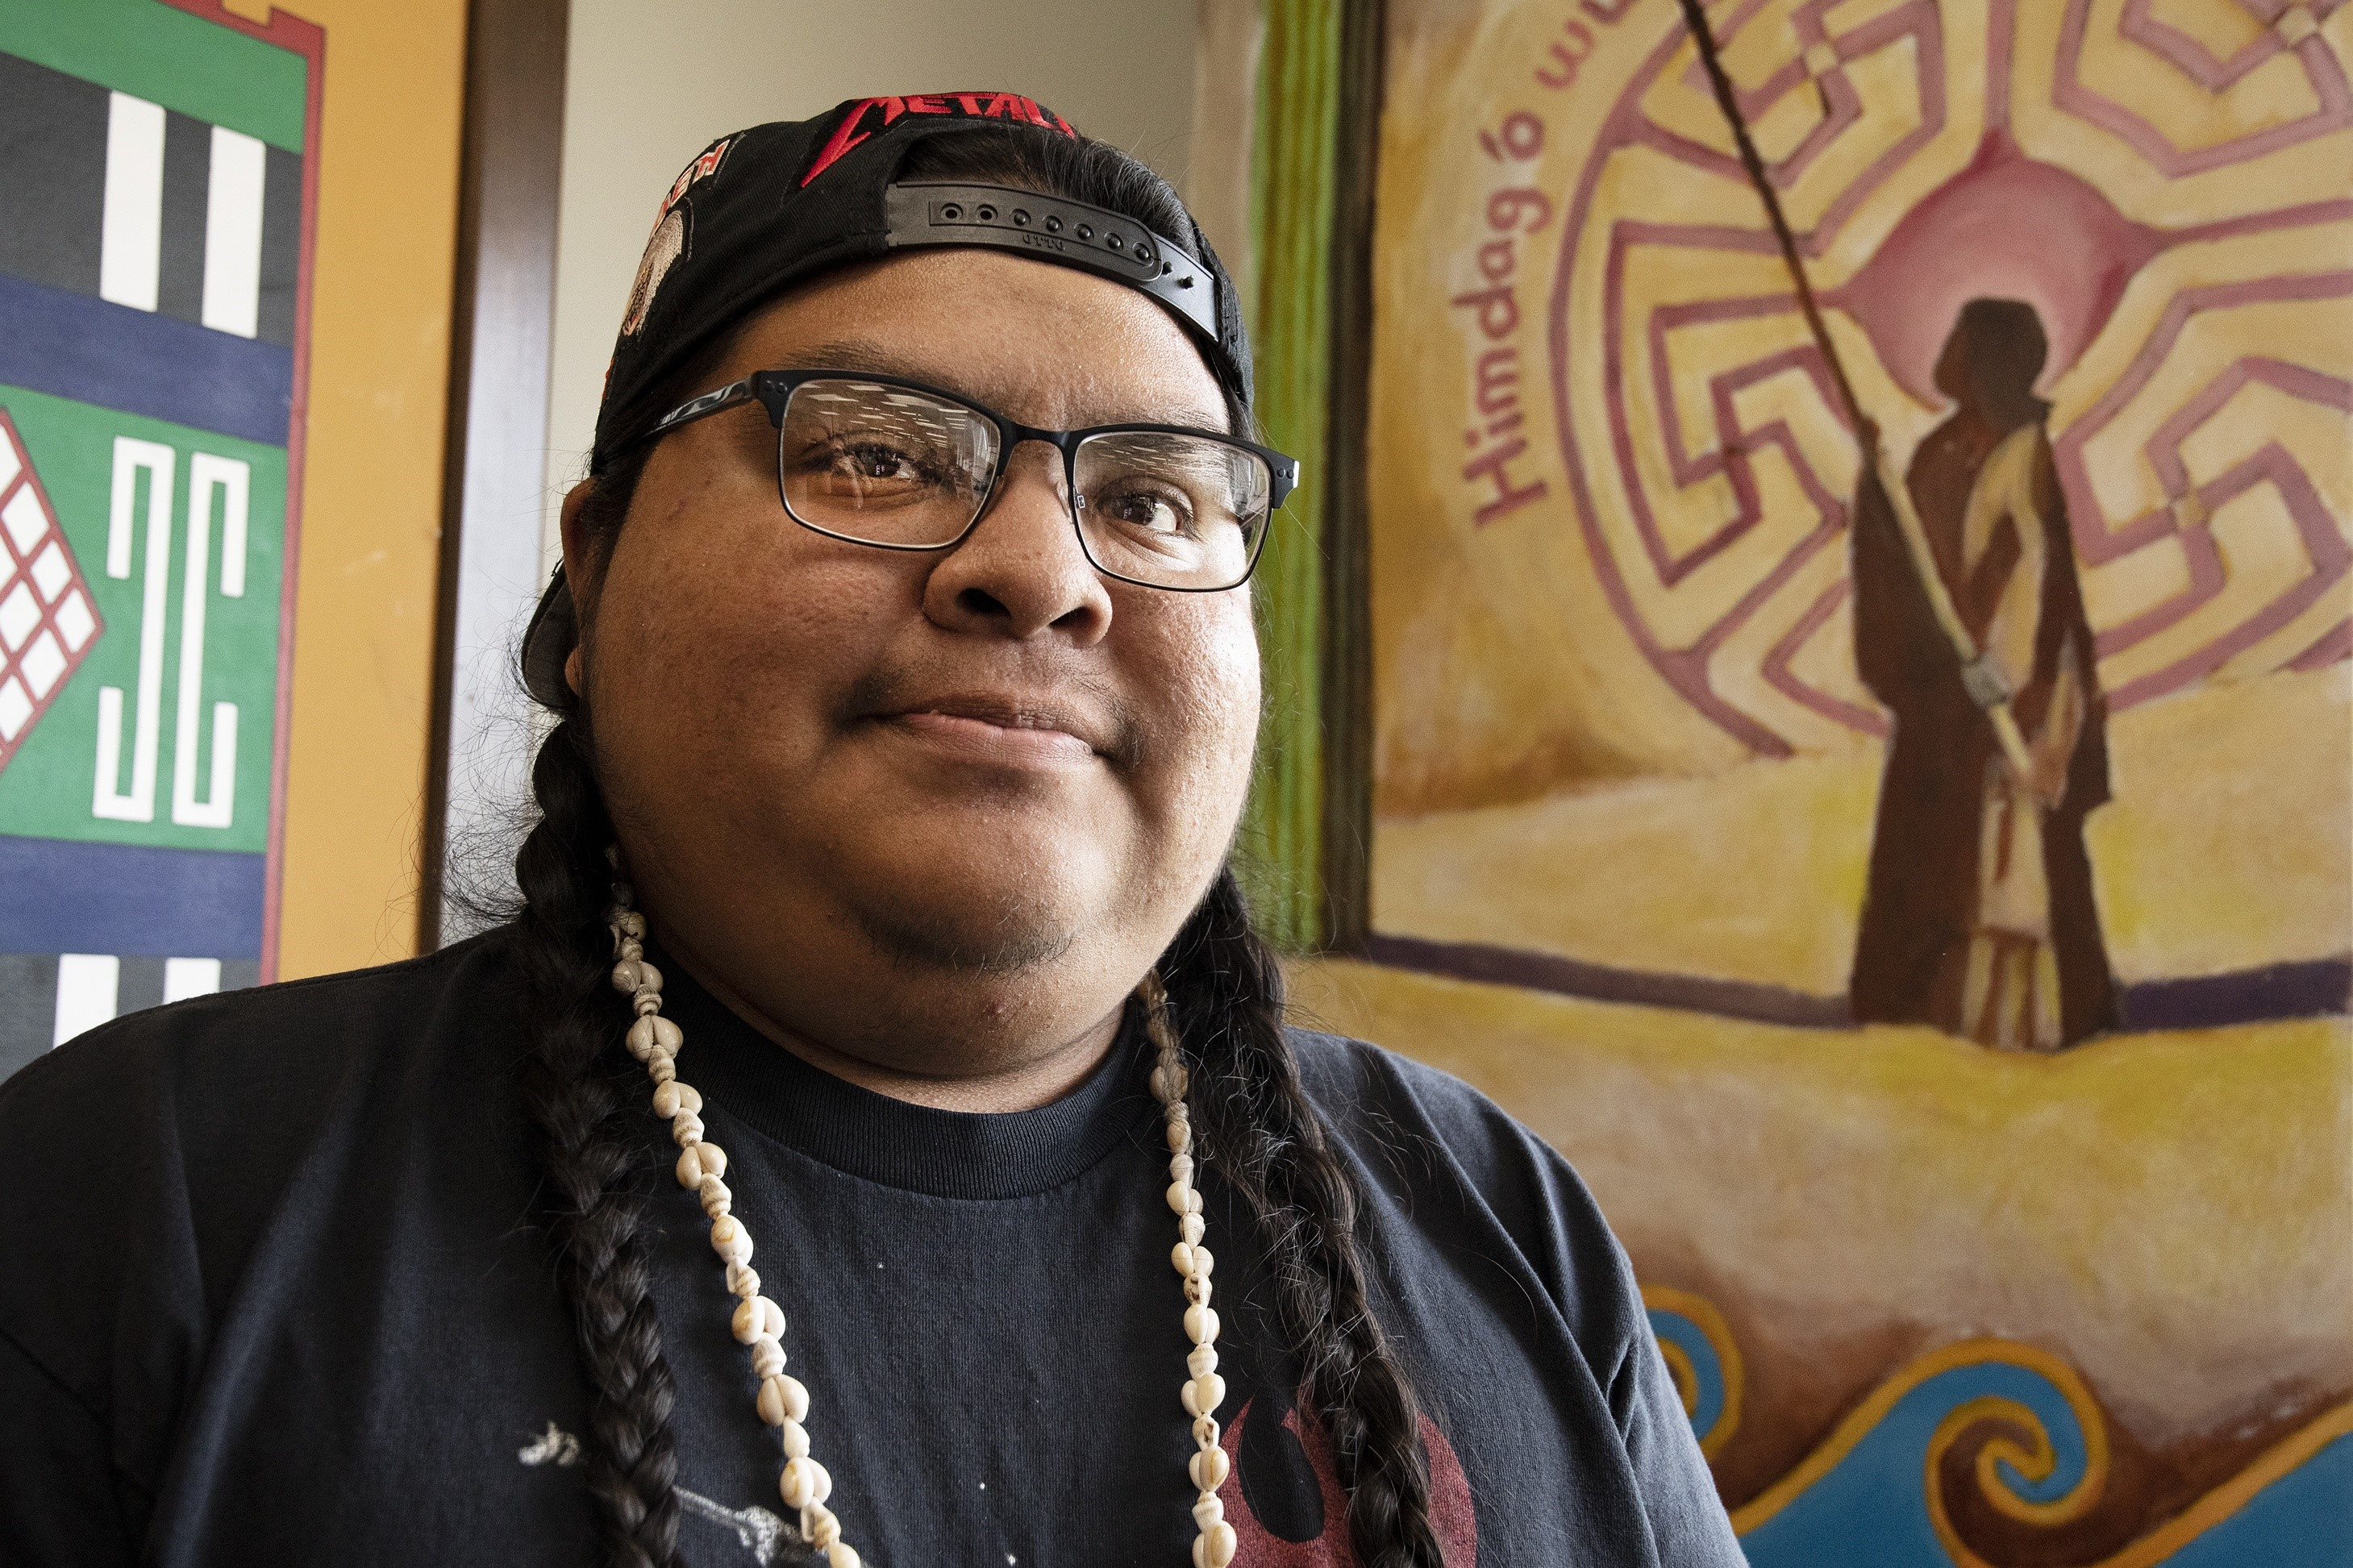face_no_mask: (564, 147, 1294, 1104)
